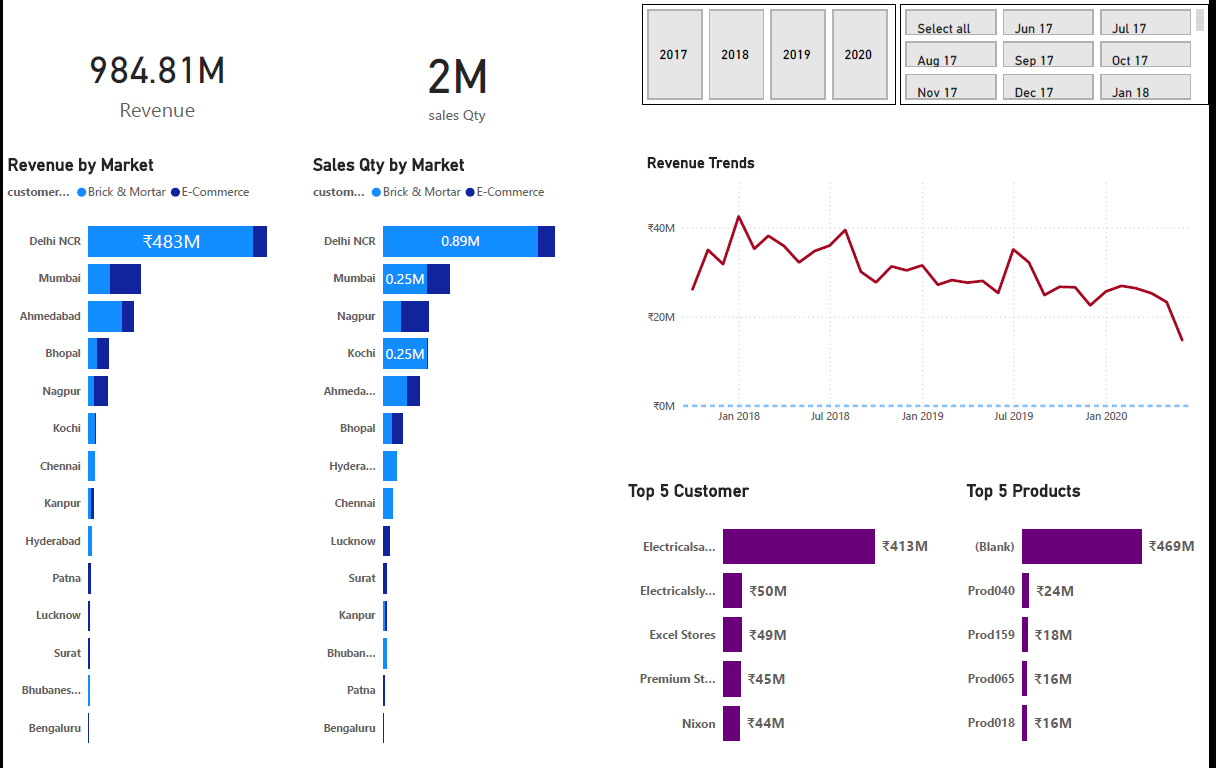

What the dashboard file says about the page in this screenshot:
{"tool":"powerbi","page":{"name":"Key Insights With Customer Type","canvas":[1350,850],"ordinal":1},"visuals":[{"type":"card","fields":{"Values":["Sum(sales transactions.sales_amount)"]},"box":[0,0,345.5,168.3],"z":0},{"type":"card","fields":{"Values":["BaseMeasures.sales Qty"]},"box":[341.7,0,333.2,168.3],"z":1000},{"type":"barChart","title":"Revenue by Market","fields":{"Y":["BaseMeasures.Revenue"],"Category":["sales markets.markets_name"],"Series":["sales customers.customer_type"]},"box":[0,168.4,330.7,681.5],"z":2000},{"type":"barChart","title":"Sales Qty by Market","fields":{"Y":["BaseMeasures.sales Qty"],"Category":["sales markets.markets_name"],"Series":["sales customers.customer_type"]},"box":[341.6,168.4,282.8,681.5],"z":3000},{"type":"advancedSlicerVisual","fields":{"Values":["sales date.year"]},"box":[715.7,0,283.9,112.2],"z":4000},{"type":"advancedSlicerVisual","fields":{"Values":["sales date.cy_date"]},"box":[1004.7,0,345.1,112.2],"z":5000},{"type":"barChart","title":"Top 5 Customer","fields":{"Category":["sales customers.custmer_name"],"Y":["BaseMeasures.Revenue"]},"box":[695.3,532.8,367.2,317.2],"z":6000},{"type":"barChart","title":"Top 5 Products","fields":{"Y":["BaseMeasures.Revenue"],"Category":["sales products.product_code"]},"box":[1074.1,533.2,275.1,316.8],"z":7000},{"type":"lineChart","title":"Revenue Trends","fields":{"Category":["sales date.cy_date.Variation.Date Hierarchy.Year","sales date.cy_date.Variation.Date Hierarchy.Quarter","sales date.cy_date.Variation.Date Hierarchy.Month","sales date.cy_date.Variation.Date Hierarchy.Day"],"Y":["BaseMeasures.Revenue"]},"box":[716.4,167.5,633.6,312.5],"z":8000}]}

Visuals, with their boxes in screenshot pixels (x1, y1, x2, y2), scaled from the page's 1350x850 canvas onto the 1216x768 screenshot:
card - Sum(sales transactions.sales_amount): [0, 0, 311, 152]
card - BaseMeasures.sales Qty: [308, 0, 608, 152]
"Revenue by Market" barChart: [0, 152, 298, 767]
"Sales Qty by Market" barChart: [308, 152, 562, 767]
advancedSlicerVisual - sales date.year: [645, 0, 900, 101]
advancedSlicerVisual - sales date.cy_date: [905, 0, 1215, 101]
"Top 5 Customer" barChart: [626, 481, 957, 767]
"Top 5 Products" barChart: [967, 482, 1215, 767]
"Revenue Trends" lineChart: [645, 151, 1215, 434]
